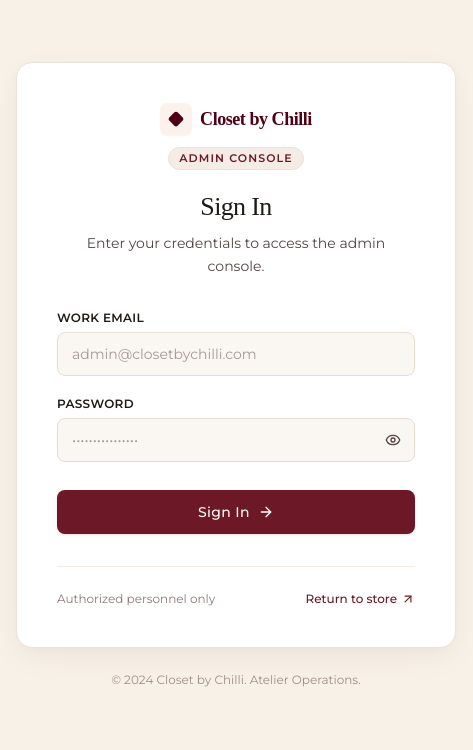
Scenario: AdminLoginForm UI & Authentication Flow › denies access, signs out, and warns when customer logs into admin console
This screenshot has width=473, height=750.
Type "customer@example.com" into the field labelled "Work Email" at (236, 354), box [57,332,415,376]
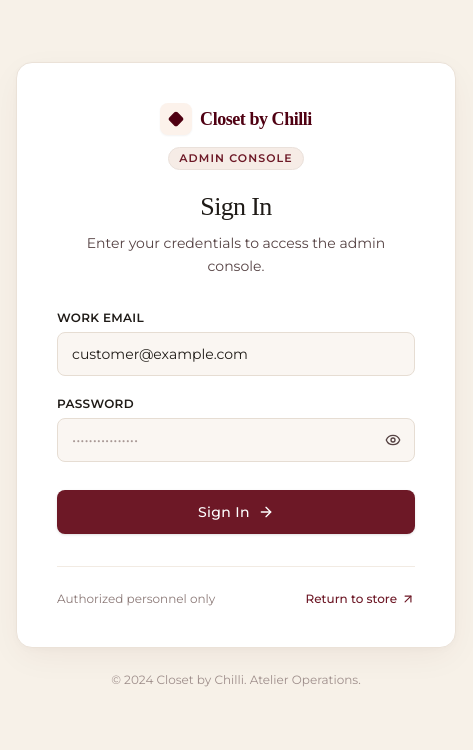
Type "CustomerPass123" into the password field labelled "Password" at (236, 440), box [57,418,415,462]
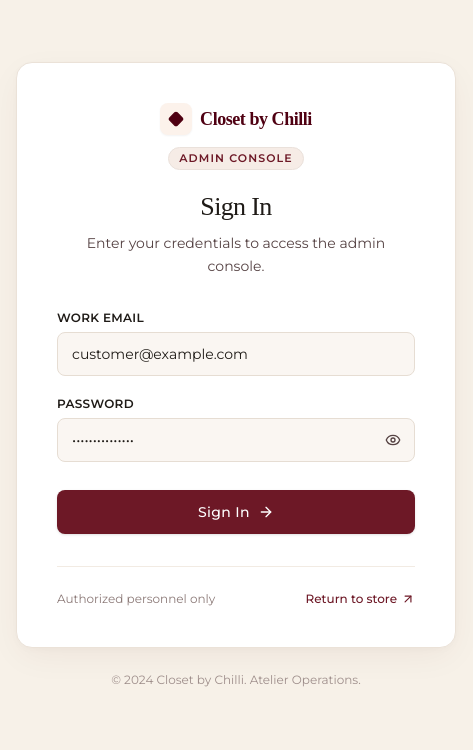
Click the button "Sign In" at (236, 512), box [57,490,415,534]
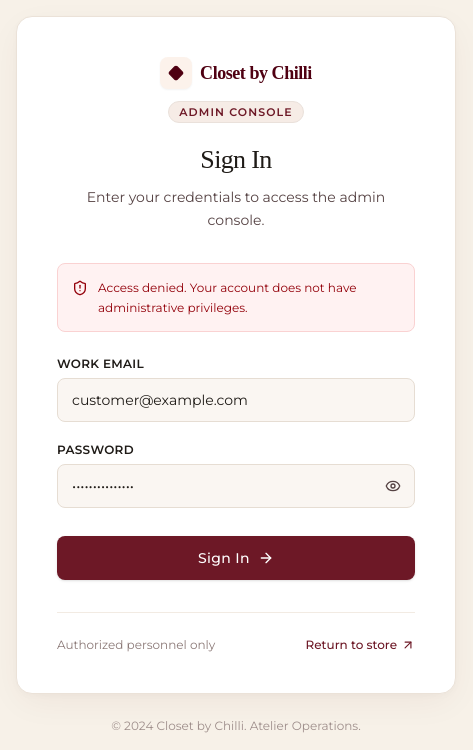
Result: the text "Access denied. Your account does not have administrative privileges." is shown at [98,278,400,317]
